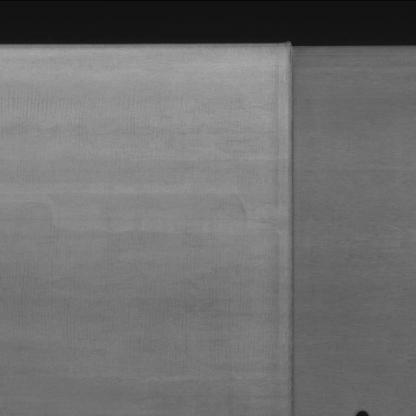punching_hole: (350, 409, 372, 416)
welding_line: (274, 37, 311, 416)
